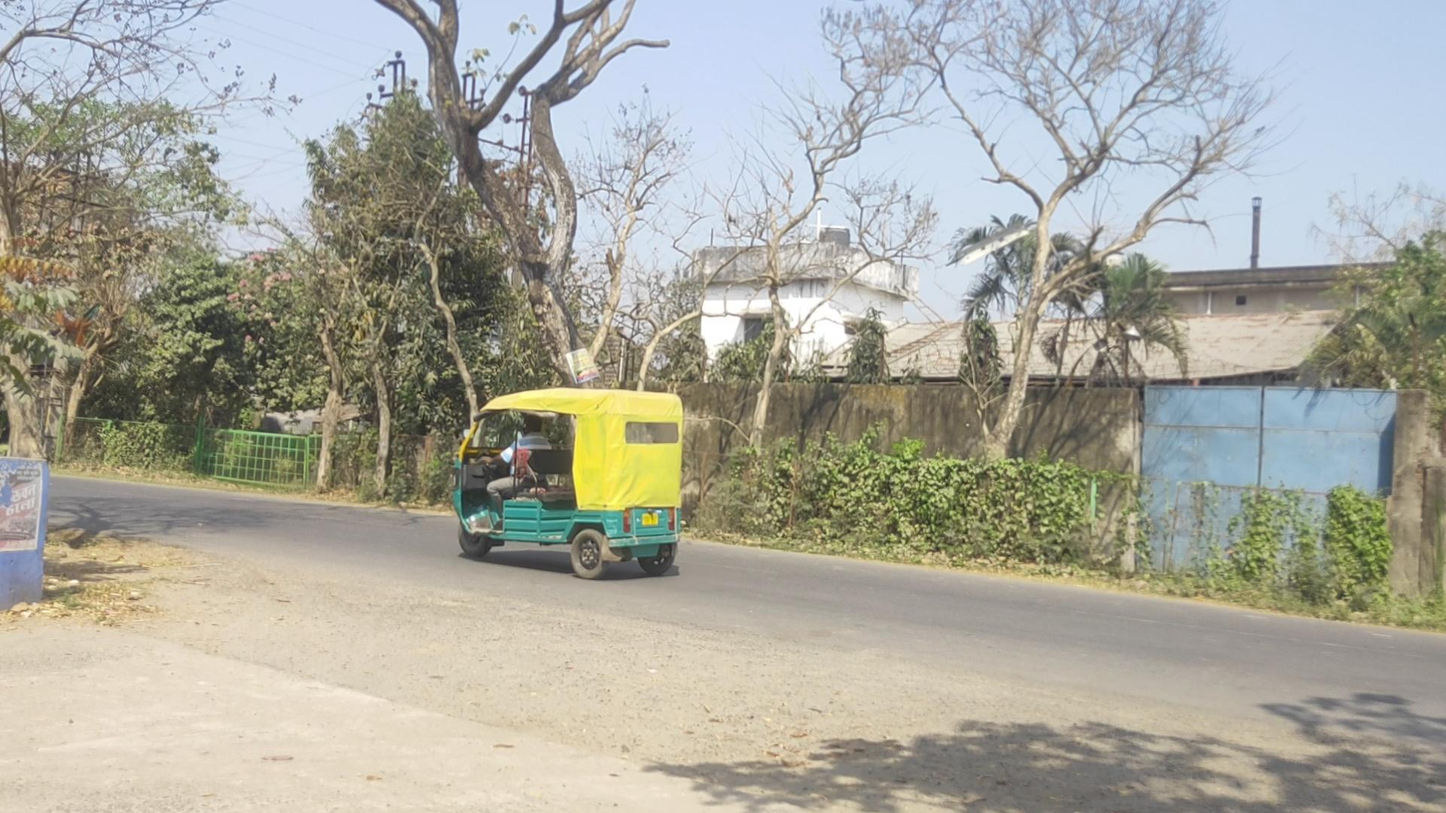Auto: (451, 387, 682, 580)
